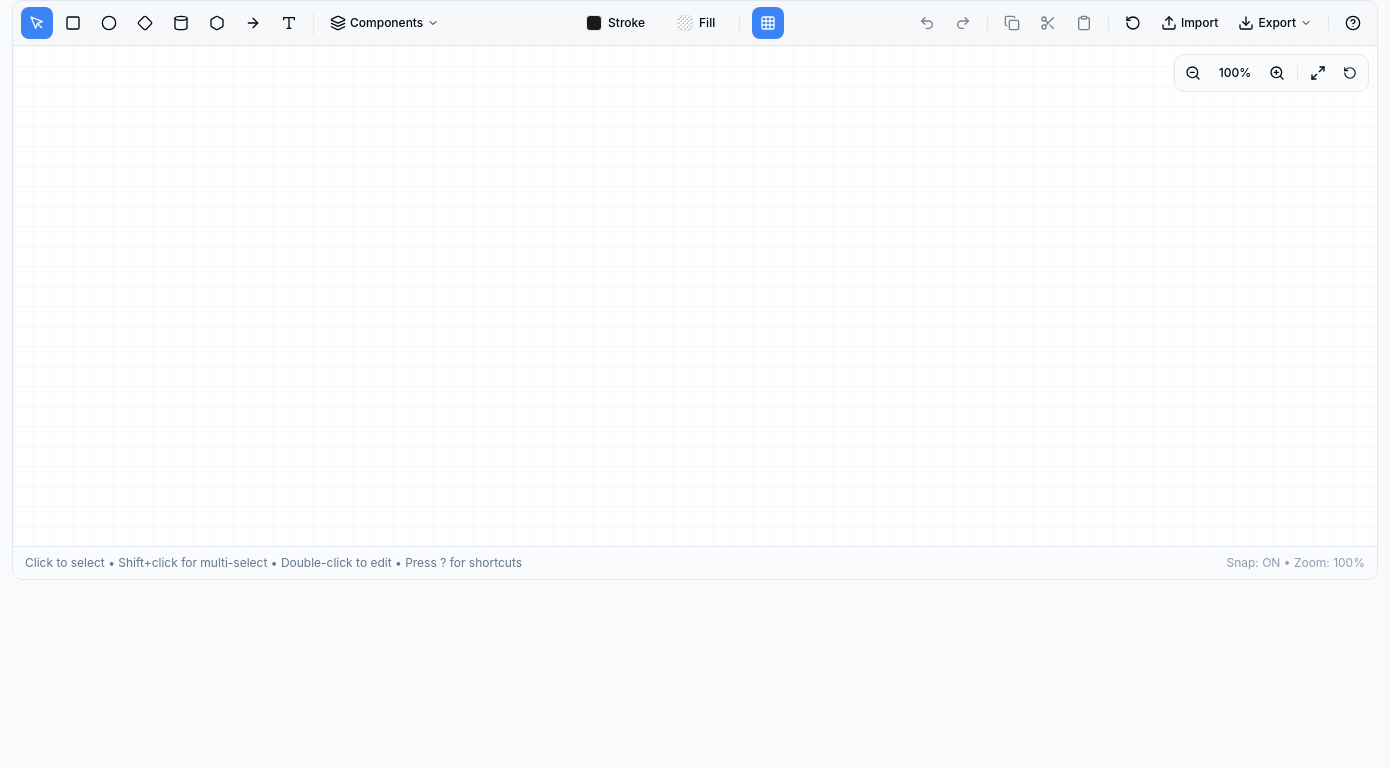
Scenario: DesignCanvas › Import/Export UI › shows export dropdown when export button clicked
Click the button titled "Export diagram". click: (1275, 23)
box: [1230,7,1320,39]
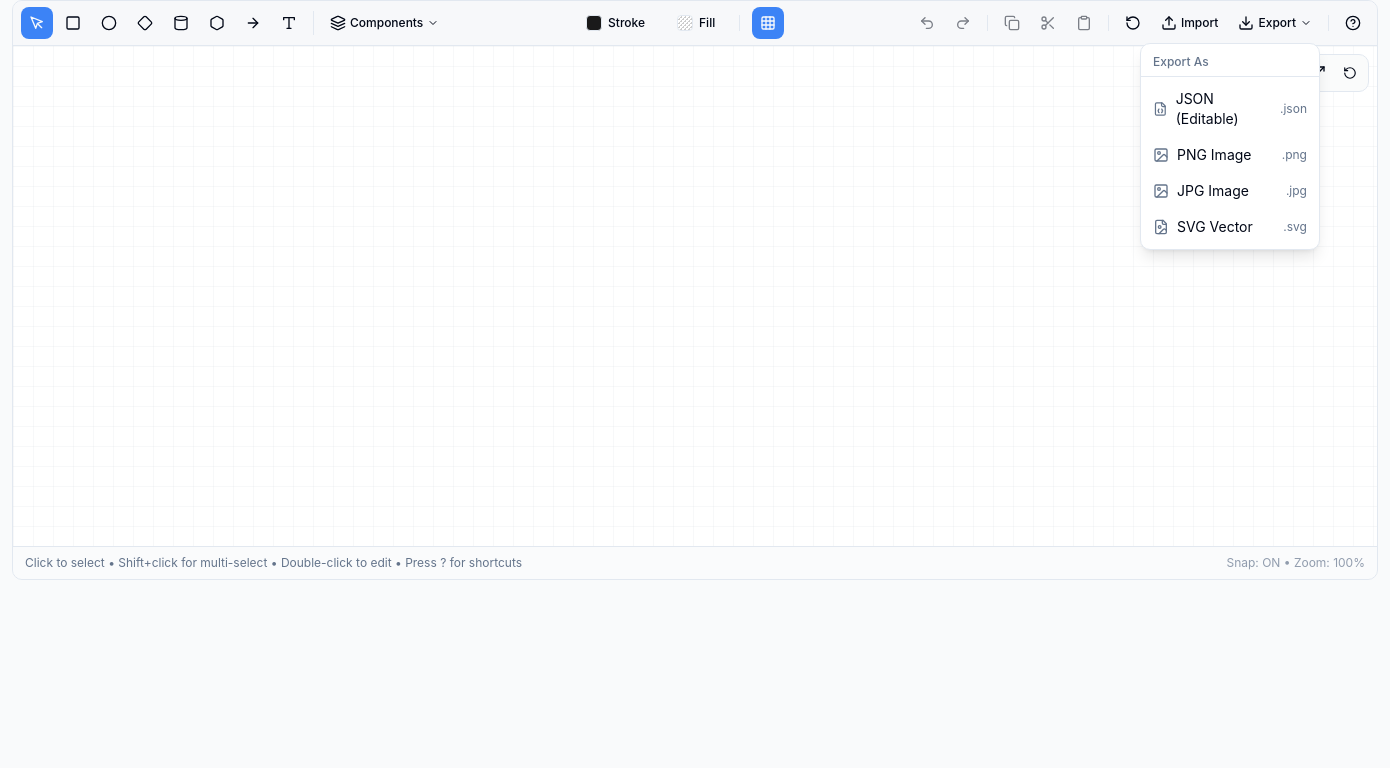
Check: the text "Export As" is shown, box [1141,48,1319,77]
Check: the text "JSON (Editable)" is shown, box [1176,90,1239,127]
Check: the text "PNG Image" is shown, box [1177,145,1252,165]
